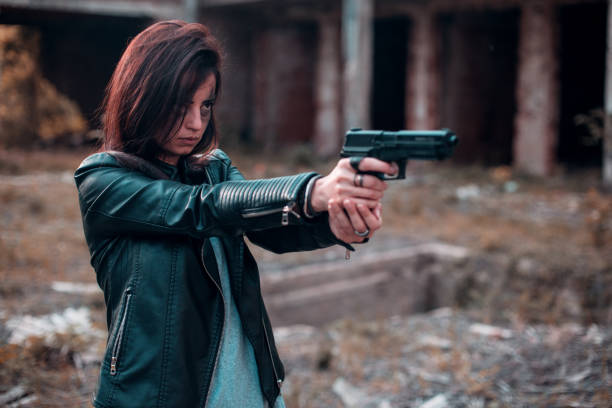gun: (338, 123, 458, 184)
